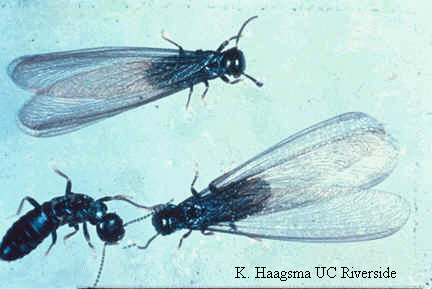flying termite: (128, 111, 419, 253), (5, 14, 271, 136)
